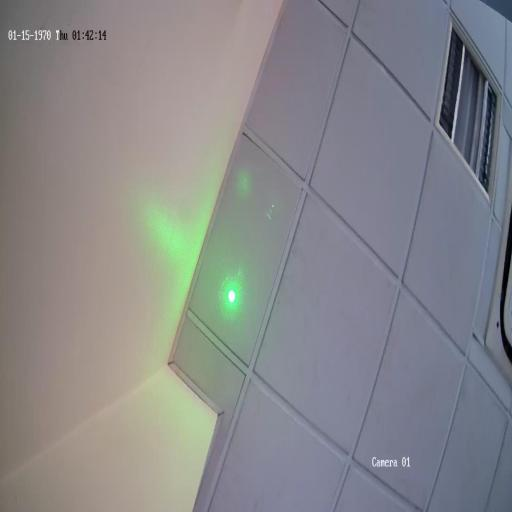laser: (225, 285, 240, 308)
